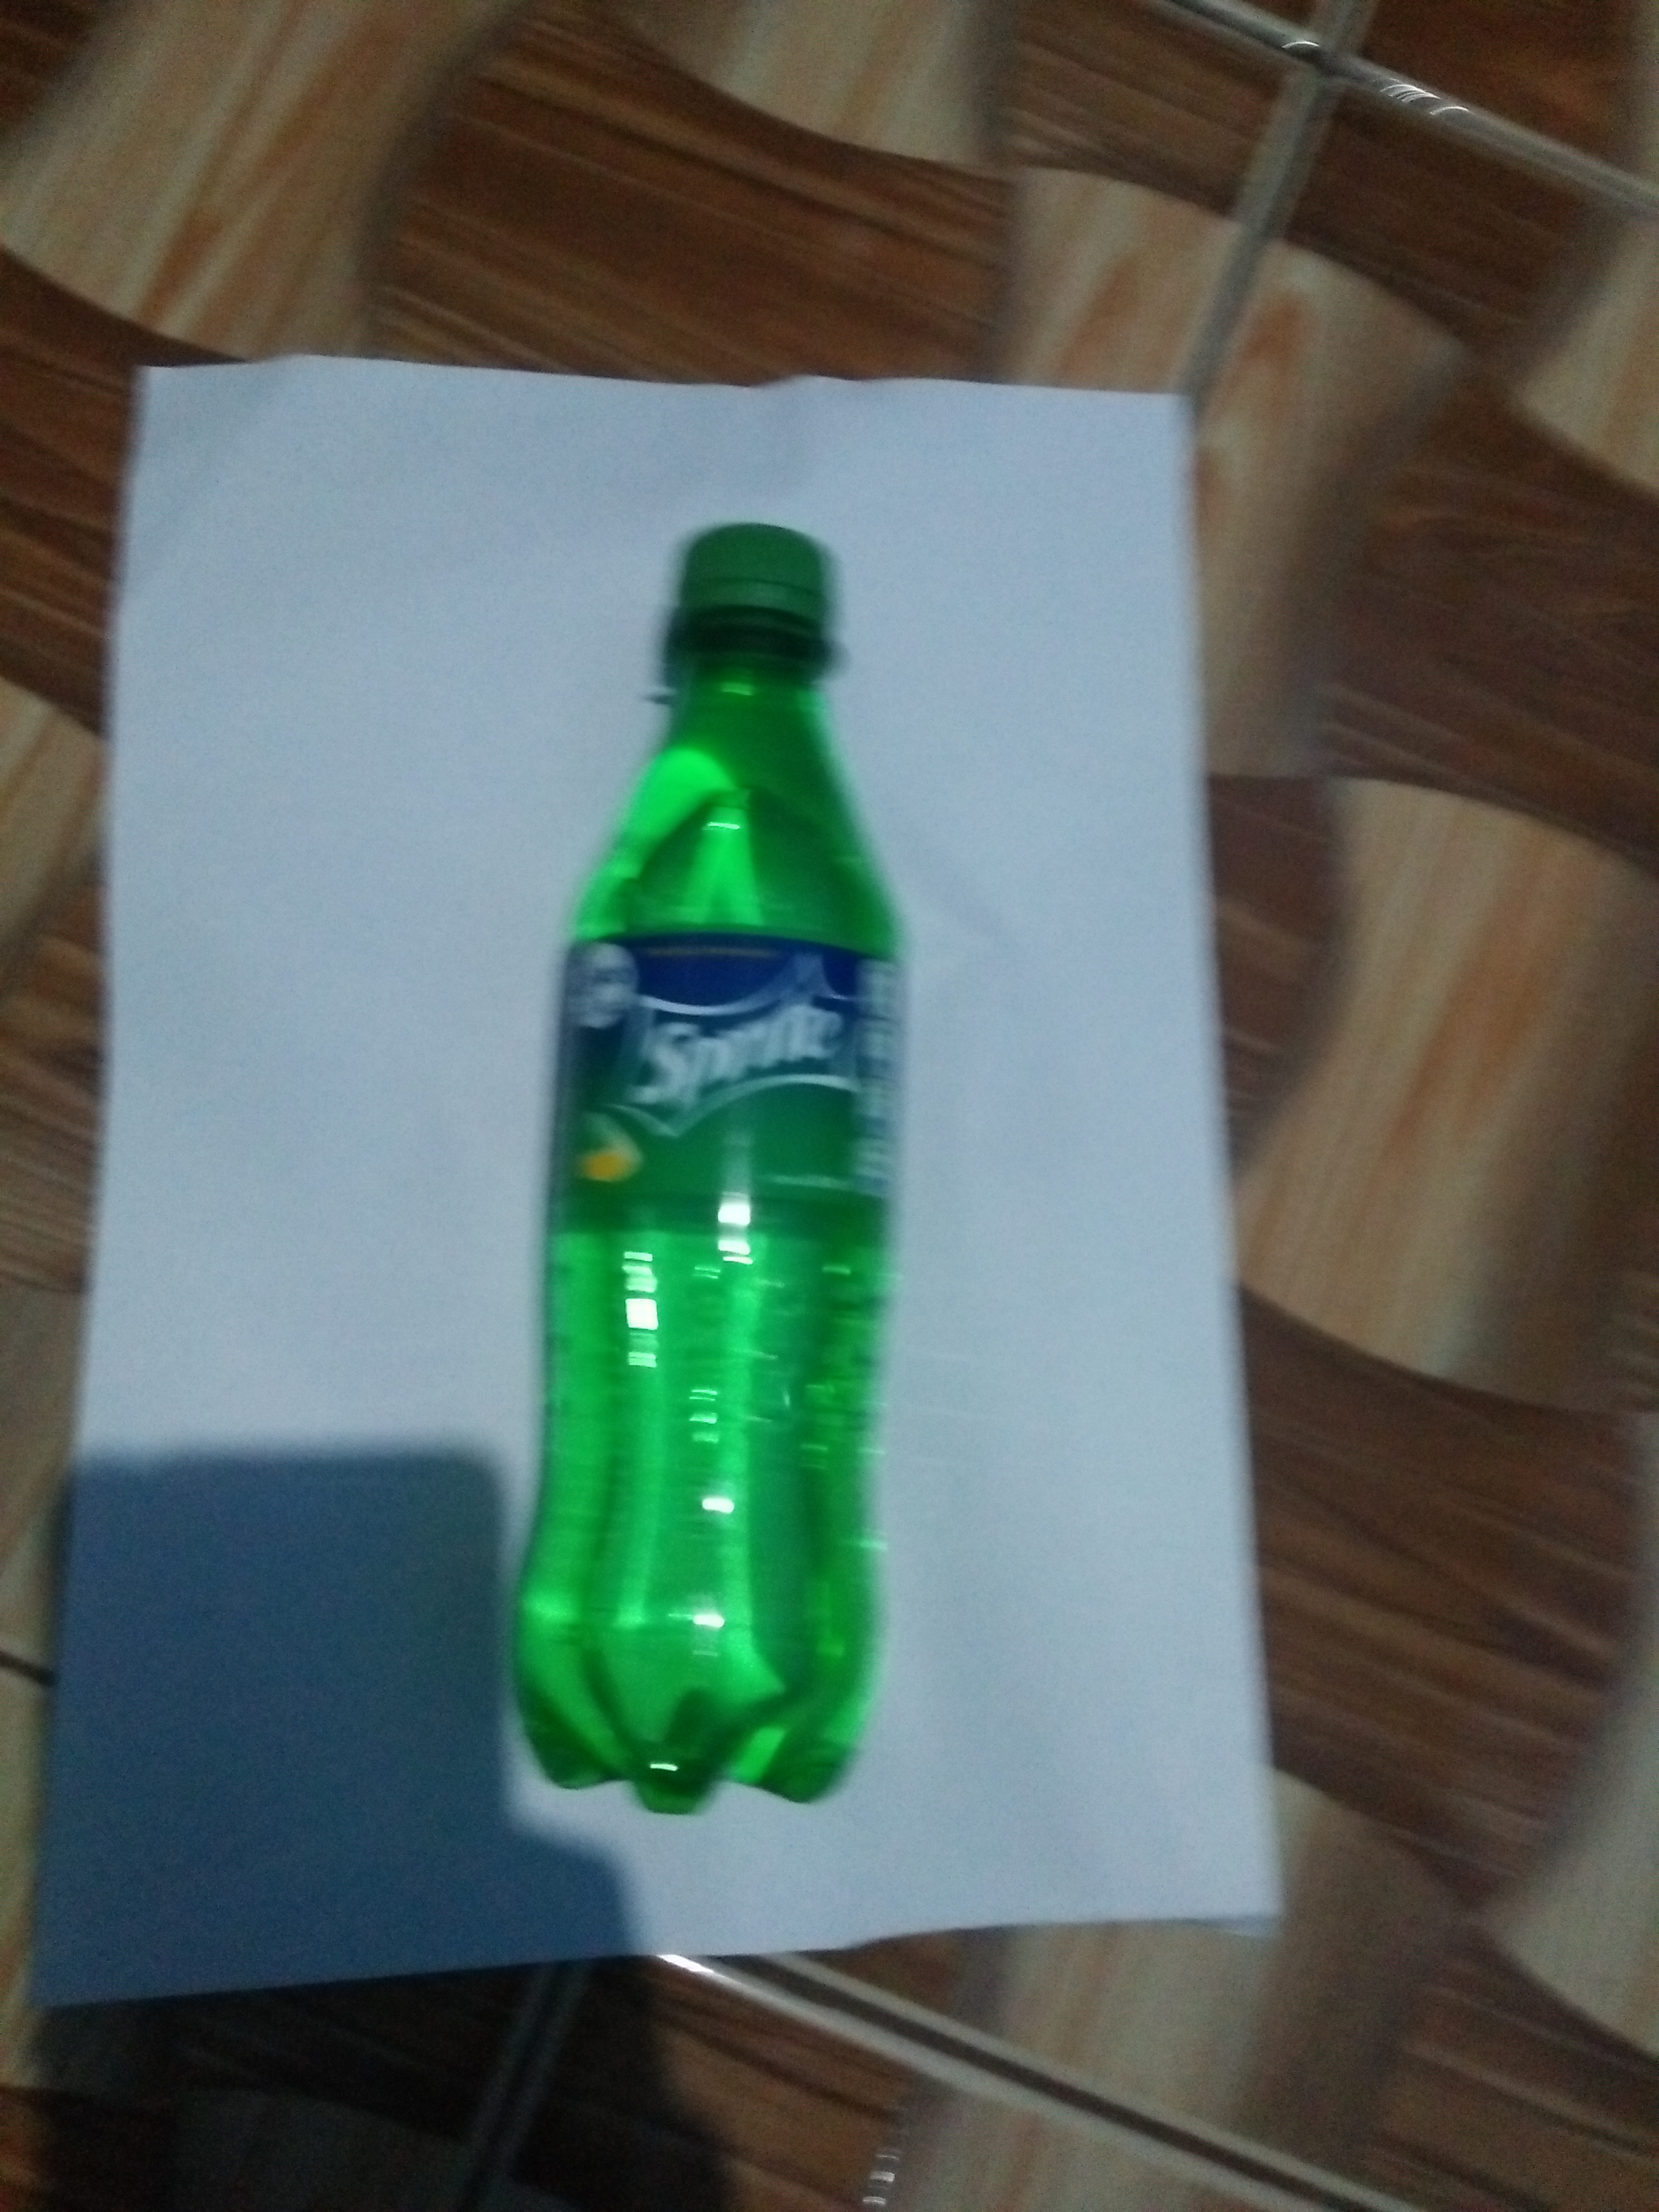Sprite: (464, 509, 946, 1832)
